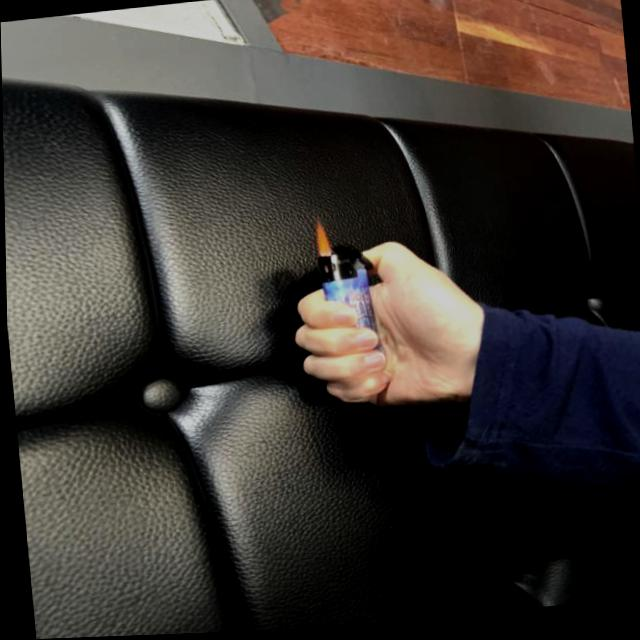Fire: (312, 219, 330, 261)
